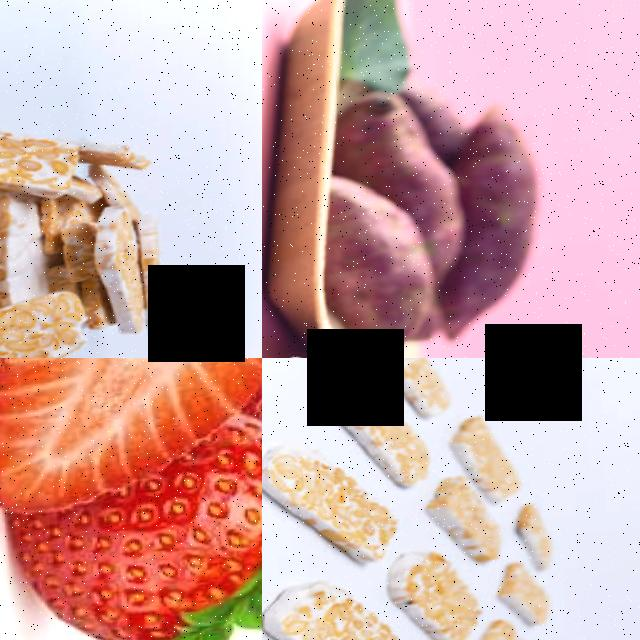strawberry: (3, 478, 262, 640), (0, 358, 262, 452)
sweet potato: (442, 99, 568, 340), (322, 168, 458, 358), (335, 84, 455, 183)
tempeh: (262, 433, 368, 555), (0, 100, 91, 206), (92, 208, 160, 333), (387, 547, 477, 640), (0, 283, 110, 358), (262, 575, 385, 640), (0, 191, 41, 307)
